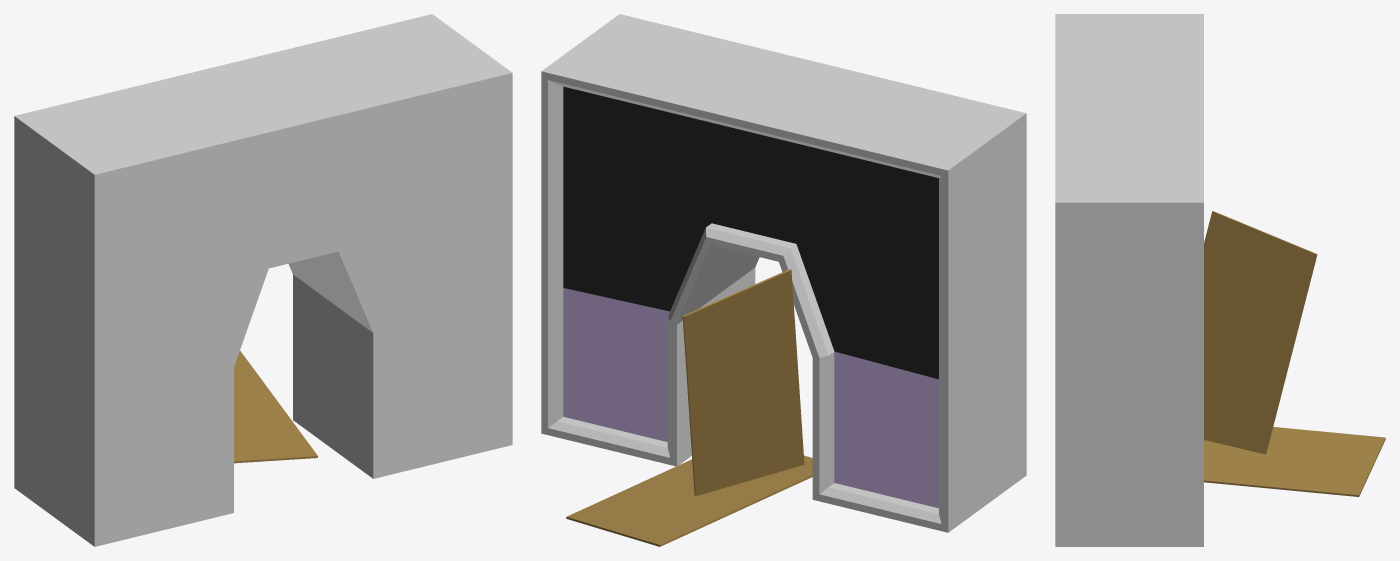
File: StartGate.fbx
The picture shows the model from 3 angles, left to right: view 1: azimuth 30°, elevation 25°; view 2: azimuth 150°, elevation 25°; view 3: azimuth 270°, elevation 25°; orthographic projection. The views are drawn at different scales.
Parts seen in each view (by area): view 1: Cube.007; view 2: Cube.007; view 3: Cube.007.
Boxes of the visible parts, bbox=[...] form: Cube.007: bbox=[14, 14, 512, 546]; Cube.007: bbox=[541, 14, 1026, 546]; Cube.007: bbox=[1055, 14, 1385, 546].
Size of the model in its own units: 600 by 535 by 444.
